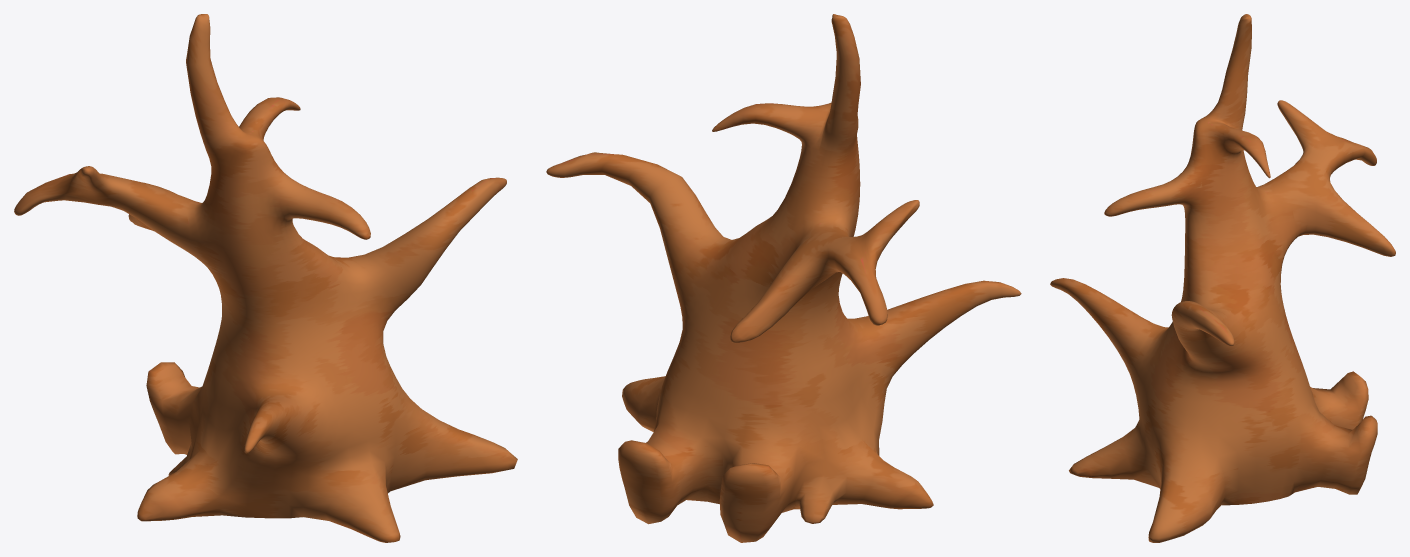
Rendered from Arbre vieux.fbx.
3 views of the same model, side by side, from view 1: azimuth 30°, elevation 25°; view 2: azimuth 150°, elevation 25°; view 3: azimuth 270°, elevation 25° (orthographic). The views are drawn at different scales.
Visible parts, largest first — view 1: Cube.142; view 2: Cube.142; view 3: Cube.142.
Boxes of the visible parts, left/top/right/bottom form: Cube.142: left=14, top=14, right=517, bottom=542; Cube.142: left=546, top=14, right=1021, bottom=542; Cube.142: left=1050, top=14, right=1395, bottom=542.
Bounding box in the file's own units: 1124 × 1263 × 932.
